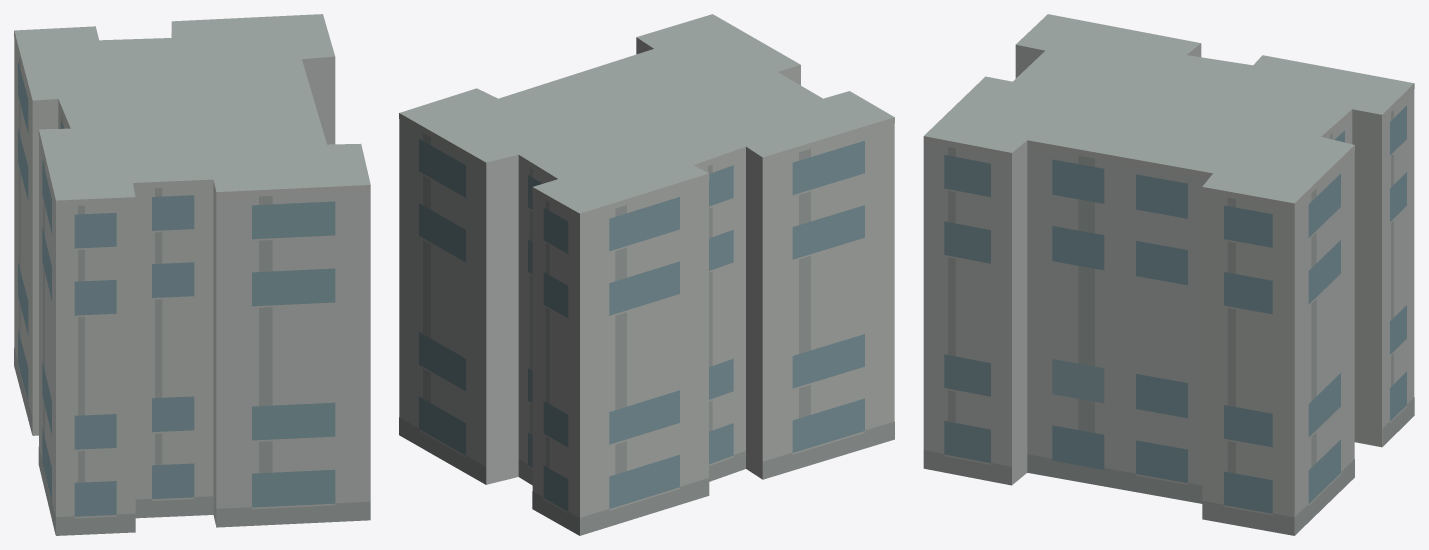
Rendered from survey-upis-32884794.glb.
3 views of the same model, side by side, from view 1: azimuth 30°, elevation 25°; view 2: azimuth 150°, elevation 25°; view 3: azimuth 270°, elevation 25° (orthographic). The views are drawn at different scales.
Parts seen in each view (by area): view 1: survey-upis-32884794.tmp; view 2: survey-upis-32884794.tmp; view 3: survey-upis-32884794.tmp.
Boxes of the visible parts, box(x1,y1,x2,y2) form: survey-upis-32884794.tmp: box(14, 14, 370, 535); survey-upis-32884794.tmp: box(399, 14, 894, 535); survey-upis-32884794.tmp: box(923, 14, 1414, 535).
Size of the model in its own units: 16.01 by 13.1 by 17.53.
